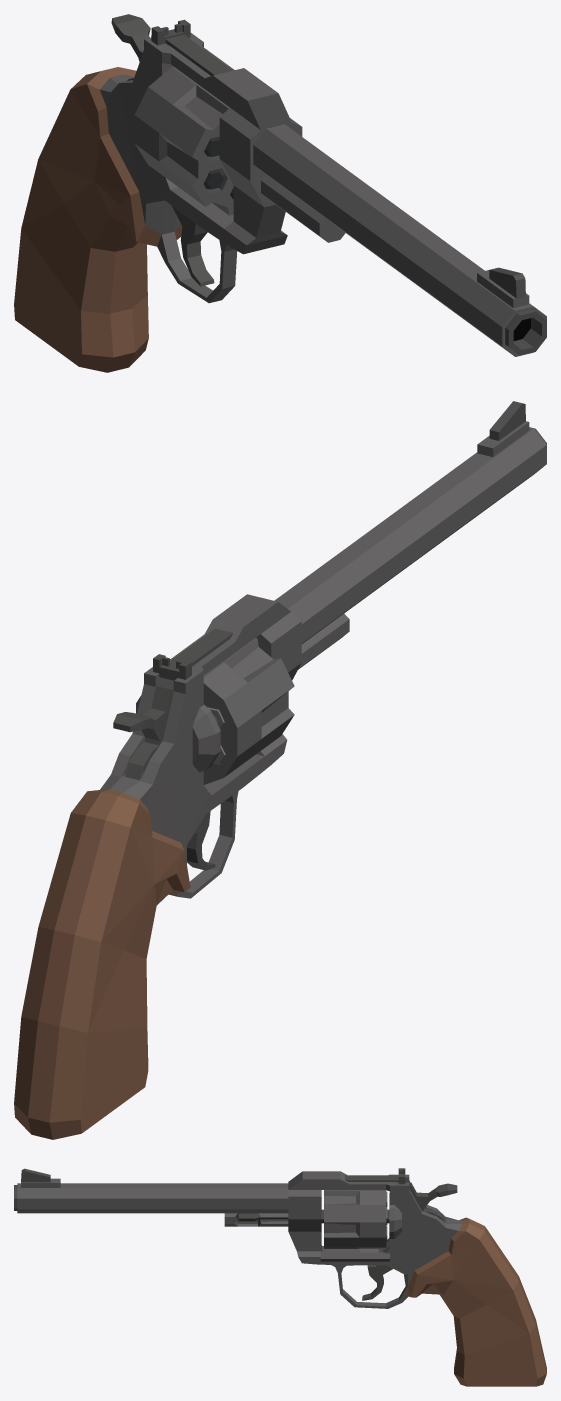
Rendered from SM_Wep_Pistol_Revolver_01.glb.
The picture shows the model from 3 angles, top to bottom: view 1: azimuth 30°, elevation 25°; view 2: azimuth 150°, elevation 25°; view 3: azimuth 270°, elevation 25°; orthographic projection. The views are drawn at different scales.
Parts seen in each view (by area): view 1: SM_Wep_Pistol_Revolver_01, SM_Wep_Pistol_Revolver_Cylander_01, SM_Wep_Pistol_Revolver_Trigger_01, SM_Wep_Pistol_Revolver_Hammer_01; view 2: SM_Wep_Pistol_Revolver_01, SM_Wep_Pistol_Revolver_Cylander_01, SM_Wep_Pistol_Revolver_Hammer_01; view 3: SM_Wep_Pistol_Revolver_01, SM_Wep_Pistol_Revolver_Cylander_01, SM_Wep_Pistol_Revolver_CylinderFlip_01, SM_Wep_Pistol_Revolver_Hammer_01, SM_Wep_Pistol_Revolver_Trigger_01.
Boxes of the visible parts, bbox=[...] form: SM_Wep_Pistol_Revolver_01: bbox=[14, 19, 546, 372]; SM_Wep_Pistol_Revolver_Cylander_01: bbox=[134, 66, 233, 215]; SM_Wep_Pistol_Revolver_Trigger_01: bbox=[172, 206, 214, 286]; SM_Wep_Pistol_Revolver_Hammer_01: bbox=[111, 14, 150, 80]; SM_Wep_Pistol_Revolver_01: bbox=[14, 401, 546, 1139]; SM_Wep_Pistol_Revolver_Cylander_01: bbox=[136, 638, 294, 784]; SM_Wep_Pistol_Revolver_Hammer_01: bbox=[113, 686, 174, 780]; SM_Wep_Pistol_Revolver_01: bbox=[14, 1168, 546, 1386]; SM_Wep_Pistol_Revolver_Cylander_01: bbox=[321, 1190, 389, 1248]; SM_Wep_Pistol_Revolver_CylinderFlip_01: bbox=[239, 1213, 389, 1261]; SM_Wep_Pistol_Revolver_Hammer_01: bbox=[409, 1182, 457, 1222]; SM_Wep_Pistol_Revolver_Trigger_01: bbox=[362, 1249, 392, 1300].
Bounding box in the file's own units: 0.0554 × 0.2024 × 0.462.
Materials: 5 (5 with a texture image).
